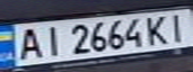2: (66, 20, 90, 56)
4: (124, 16, 148, 48)
6: (87, 19, 112, 53), (106, 17, 127, 51)
A: (12, 25, 45, 61)
I: (36, 23, 66, 57), (163, 10, 193, 43)
K: (142, 12, 175, 46)
